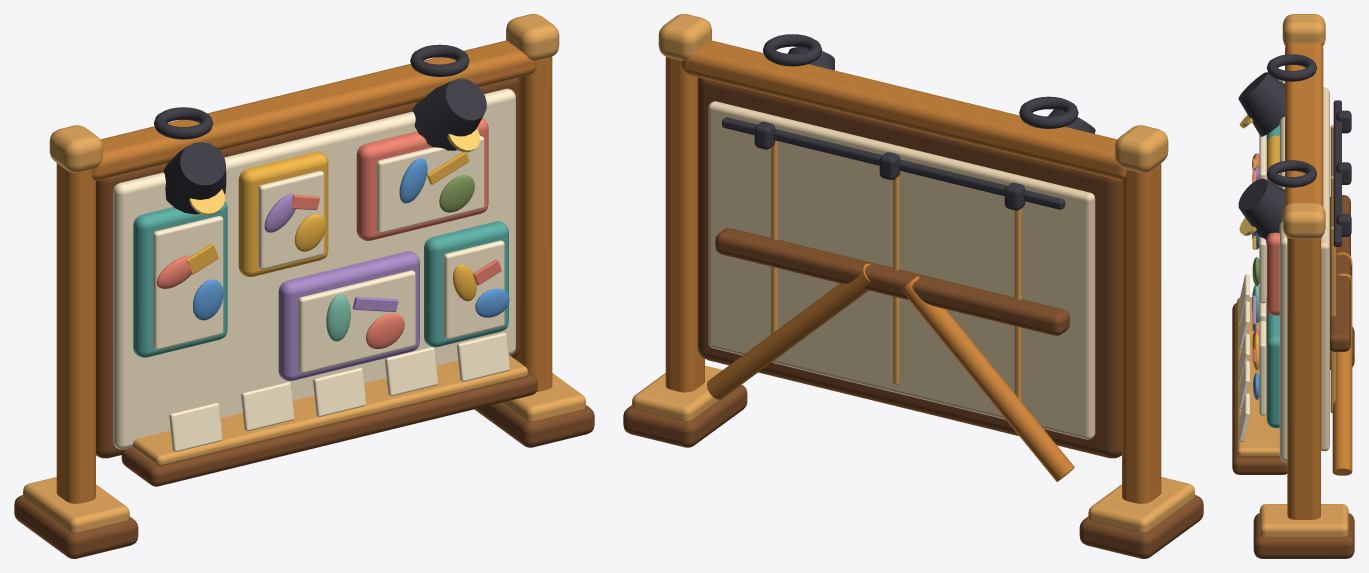
Rendered from gallery-wall.glb.
The picture shows the model from 3 angles, left to right: view 1: azimuth 30°, elevation 25°; view 2: azimuth 150°, elevation 25°; view 3: azimuth 270°, elevation 25°; orthographic projection. The views are drawn at different scales.
Parts seen in each view (by area): view 1: two-honey-oak-support-posts-broad-floor-feet-and-top-rail-su (×9), wide-finished-wall-panel-with-front-and-rear-insets-surface- (×2), lower-anonymous-comment-card-ledge-with-five-blank-cards-sur (×7), two-adjustable-top-spotlights-with-rear-cable-route-surface- (×4), artwork-frame-4-surface-2, artwork-frame-1-surface-2, artwork-frame-4-surface-0, artwork-frame-3-surface-2, artwork-frame-1-surface-0, artwork-frame-2-surface-0, artwork-frame-5-surface-0, artwork-frame-3-surface-0 (+11 smaller); view 2: wide-finished-wall-panel-with-front-and-rear-insets-surface- (×5), two-honey-oak-support-posts-broad-floor-feet-and-top-rail-su (×9), finished-backside-cross-braces-cable-clips-and-center-rail-s, two-adjustable-top-spotlights-with-rear-cable-route-surface- (×3), left-rear-cross-brace-surface-0, right-rear-cross-brace-surface-0; view 3: two-honey-oak-support-posts-broad-floor-feet-and-top-rail-su (×6), two-adjustable-top-spotlights-with-rear-cable-route-surface- (×6), wide-finished-wall-panel-with-front-and-rear-insets-surface- (×5), lower-anonymous-comment-card-ledge-with-five-blank-cards-sur (×7), finished-backside-cross-braces-cable-clips-and-center-rail-s (×4), right-rear-cross-brace-surface-0, artwork-frame-5-surface-0, artwork-frame-3-surface-0, artwork-frame-5-surface-2, artwork-frame-3-surface-2, artwork-frame-2-surface-0, artwork-frame-2-surface-2 (+4 smaller).
Part boxes in pixels (x1,y1,x2,y2): two-honey-oak-support-posts-broad-floor-feet-and-top-rail-su (×9): (14,14,594,558); wide-finished-wall-panel-with-front-and-rear-insets-surface- (×2): (96,77,520,458); lower-anonymous-comment-card-ledge-with-five-blank-cards-sur (×7): (121,332,537,486); two-adjustable-top-spotlights-with-rear-cable-route-surface- (×4): (154,44,486,214); artwork-frame-4-surface-2: (298,270,415,373); artwork-frame-1-surface-2: (153,216,223,349); artwork-frame-4-surface-0: (278,251,419,380); artwork-frame-3-surface-2: (376,136,484,233); artwork-frame-1-surface-0: (133,201,227,357); artwork-frame-2-surface-0: (238,151,328,276); artwork-frame-5-surface-0: (424,221,508,347); artwork-frame-3-surface-0: (356,118,488,240); wide-finished-wall-panel-with-front-and-rear-insets-surface- (×5): (697,77,1121,458); two-honey-oak-support-posts-broad-floor-feet-and-top-rail-su (×9): (623,14,1203,558); finished-backside-cross-braces-cable-clips-and-center-rail-s: (715,228,1069,335); two-adjustable-top-spotlights-with-rear-cable-route-surface- (×3): (722,34,1078,209); left-rear-cross-brace-surface-0: (901,275,1074,481); right-rear-cross-brace-surface-0: (707,263,870,399); two-honey-oak-support-posts-broad-floor-feet-and-top-rail-su (×6): (1253,14,1354,558); two-adjustable-top-spotlights-with-rear-cable-route-surface- (×6): (1238,54,1341,246); wide-finished-wall-panel-with-front-and-rear-insets-surface- (×5): (1279,80,1335,462); lower-anonymous-comment-card-ledge-with-five-blank-cards-sur (×7): (1232,274,1287,474); finished-backside-cross-braces-cable-clips-and-center-rail-s (×4): (1330,110,1351,351); right-rear-cross-brace-surface-0: (1332,273,1352,475); artwork-frame-5-surface-0: (1266,312,1279,428); artwork-frame-3-surface-0: (1266,232,1279,315); artwork-frame-5-surface-2: (1259,321,1266,415); artwork-frame-3-surface-2: (1259,237,1266,303); artwork-frame-2-surface-0: (1266,135,1279,186); artwork-frame-2-surface-2: (1259,148,1266,179).
Bounding box in the file's own units: 1.75 × 1.27 × 0.4142.
